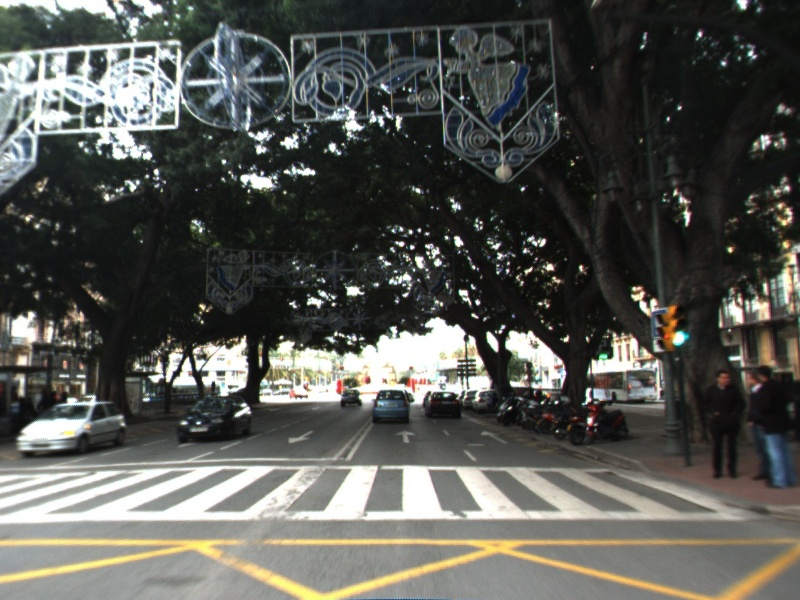STRAIGHT: (478, 428, 511, 446), (392, 428, 418, 445)
